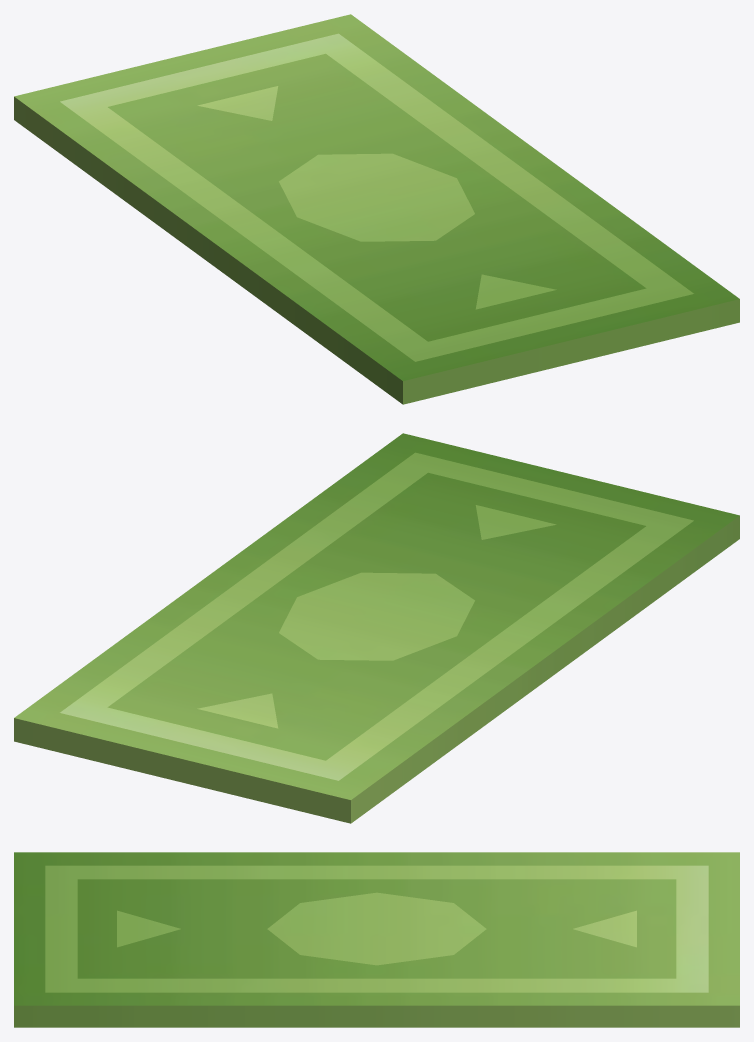
The model's file is money_bill.glb.
3 renders of one model, top to bottom at view 1: azimuth 30°, elevation 25°; view 2: azimuth 150°, elevation 25°; view 3: azimuth 270°, elevation 25°, orthographic. The views are drawn at different scales.
Visible parts, largest first — view 1: Money_Bill; view 2: Money_Bill; view 3: Money_Bill.
Part boxes in pixels (x1,y1,x2,y2): Money_Bill: [14, 14, 739, 404]; Money_Bill: [14, 433, 739, 823]; Money_Bill: [14, 852, 739, 1027].
Bounding box in the file's own units: 0.3 × 0.02 × 0.6.
Materials: 1 (1 with a texture image).
